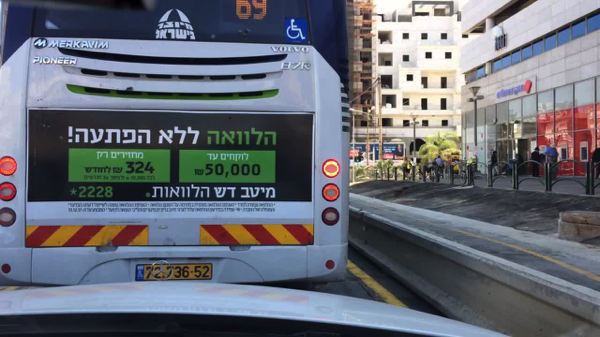bike: (458, 168, 473, 184)
bus: (2, 1, 349, 289)
person: (543, 144, 559, 181), (590, 144, 599, 179), (531, 147, 540, 176), (489, 151, 499, 176), (435, 156, 444, 175), (404, 158, 412, 178)
traffic light: (354, 156, 361, 163)
